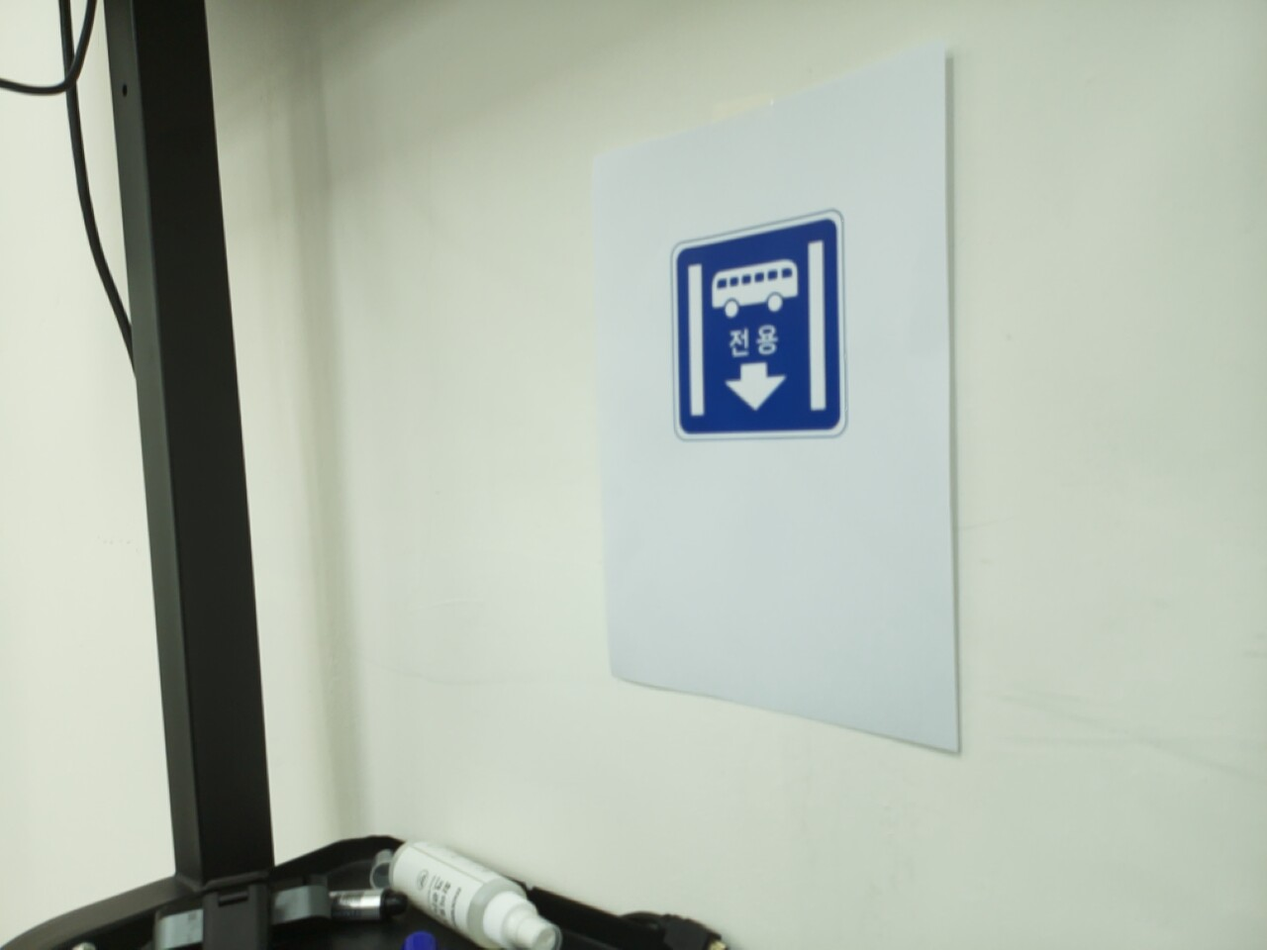bus_only_lane: (669, 211, 847, 442)
